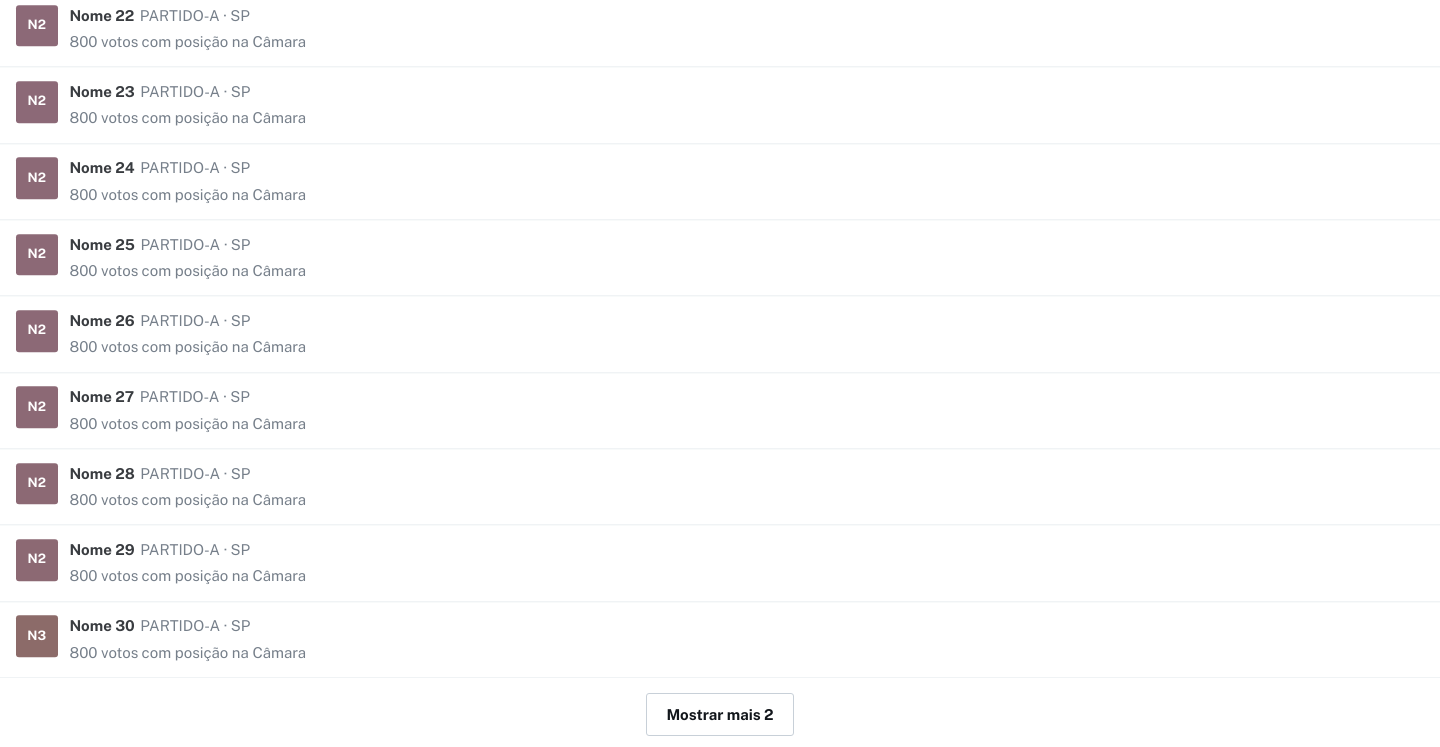
Test: Explorar em páginas › diz o total e mostra mais quando pedido
This screenshot has width=1440, height=747.
(page scrolled)
Click the button "Mostrar mais 2".
click(720, 714)  # box [646,693,794,736]
(page scrolled)
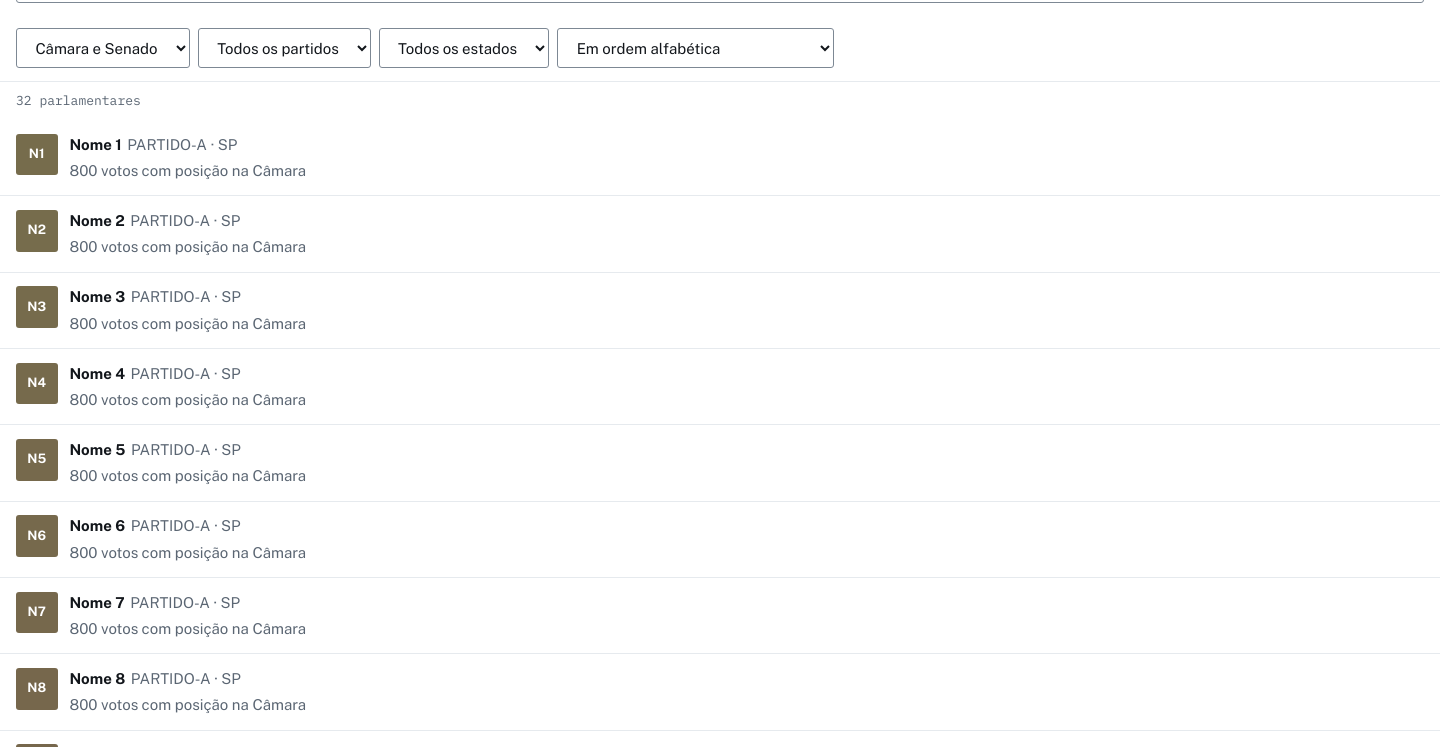
Expected: the text "32 parlamentares" is shown, [16,92,141,109]
Now the button "Mostrar mais" is gone
